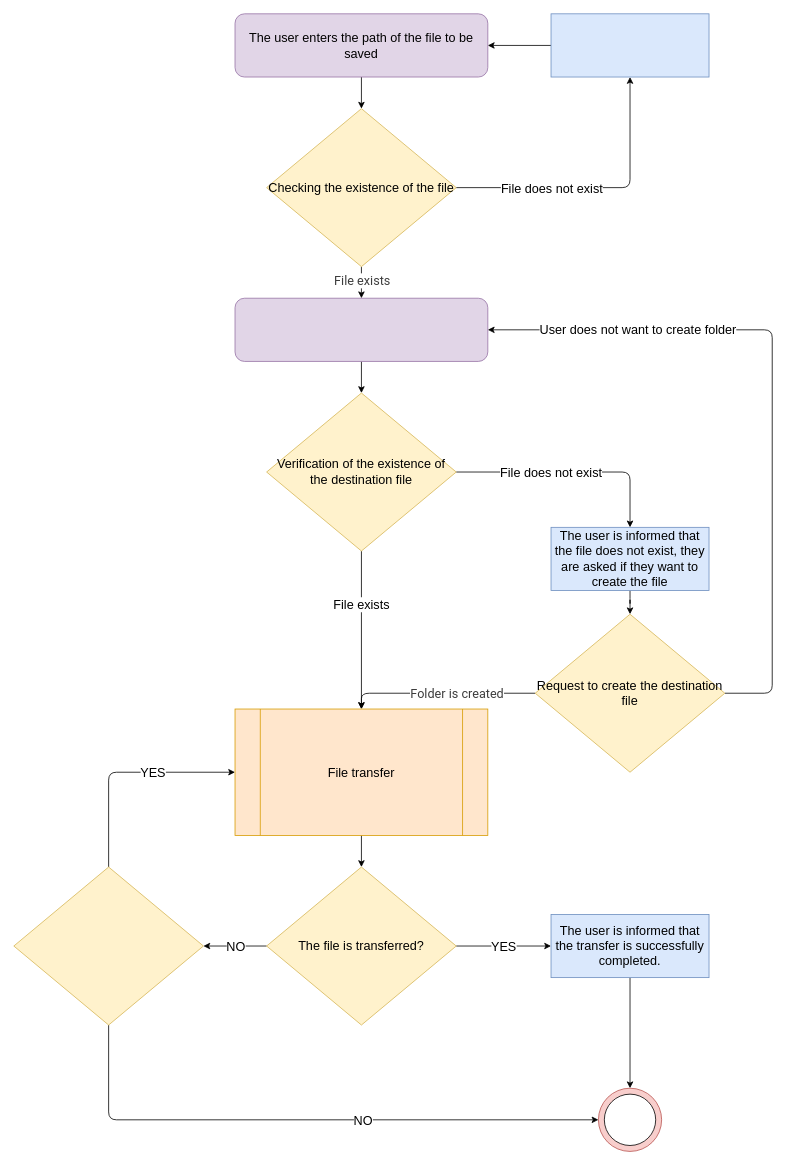
The diagram is 792 pixels wide and 1165 high, and some of its shapes have lost their labels. Here are the shapes that lost their labels. From the top down, the centre of each, then its label:
At pixel 629 45: "The user is informed that the desired file does not exist".
At pixel 361 329: "User enters destination path".
At pixel 108 945: "Asks the user to restart the transfer.".
At pixel 630 1119: "STOP".
